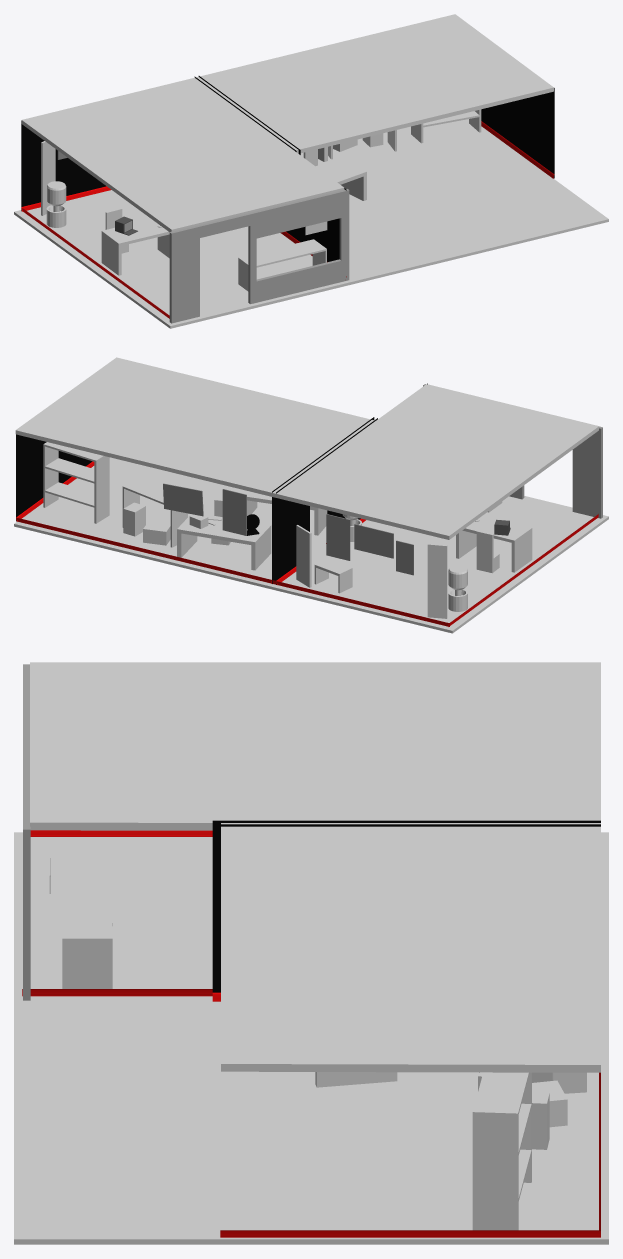
File: SM_Blockout.fbx
The picture shows the model from 3 angles, top to bottom: view 1: azimuth 30°, elevation 25°; view 2: azimuth 150°, elevation 25°; view 3: azimuth 270°, elevation 25°; orthographic projection. The views are drawn at different scales.
Visible parts, largest first — view 1: polySurface633, pCube50, polySurface598, SM_Wall_LP10, SM_Wall_LP1, polySurface599, polySurface602, polySurface623, SM_Wall_LP12, pCylinder5, polySurface609, polySurface621 (+2 smaller); view 2: polySurface633, pCube50, polySurface621, SM_Wall_Door_LP, polySurface598, SM_Wall_LP9, polySurface619, polySurface599, polySurface609, polySurface622, pCube48, pCube44 (+15 smaller); view 3: polySurface633, pCube50, polySurface621, polySurface602, SM_Wall_Door_LP, polySurface598, SM_Wall_LP9, SM_Wall_LP10, SM_Wall_LP12, SM_Wall_LP11, polySurface623, pCube41 (+1 smaller).
Boxes of the visible parts, x1,y1,x2,y2 form: polySurface633: (21,14,553,231); pCube50: (14,119,608,328); polySurface598: (169,189,349,323); SM_Wall_LP10: (503,88,554,178); SM_Wall_LP1: (21,121,108,211); polySurface599: (101,219,169,275); polySurface602: (238,239,326,291); polySurface623: (316,158,366,200); SM_Wall_LP12: (296,188,346,277); pCylinder5: (46,181,66,227); polySurface609: (41,141,55,215); polySurface621: (411,109,481,143); polySurface633: (15,357,599,539); pCube50: (14,457,608,633); polySurface621: (43,442,109,523); SM_Wall_Door_LP: (271,417,377,585); polySurface598: (423,384,602,518); SM_Wall_LP9: (16,434,66,521); polySurface619: (177,514,271,570); polySurface599: (456,515,532,572); polySurface609: (427,543,447,618); polySurface622: (122,479,187,547); pCube48: (222,489,246,535); pCube44: (326,514,350,560); polySurface633: (30,662,600,1072); pCube50: (14,832,608,1244); polySurface621: (472,1072,531,1230); polySurface602: (62,868,112,988); SM_Wall_Door_LP: (212,820,600,1001); polySurface598: (23,664,30,1000); SM_Wall_LP9: (410,1230,600,1237); SM_Wall_LP10: (220,1230,410,1237); SM_Wall_LP12: (22,989,212,996); SM_Wall_LP11: (30,830,212,836); polySurface623: (315,1072,397,1087); pCube41: (532,1091,549,1149).
Size of the model in its own units: 1520 by 317 by 938.
